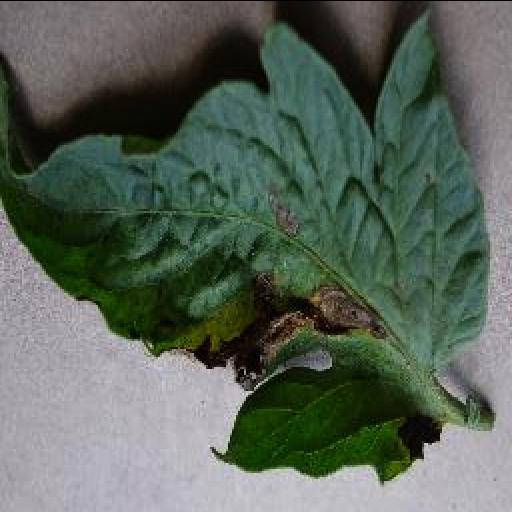Early Blight: (0, 2, 490, 480)
